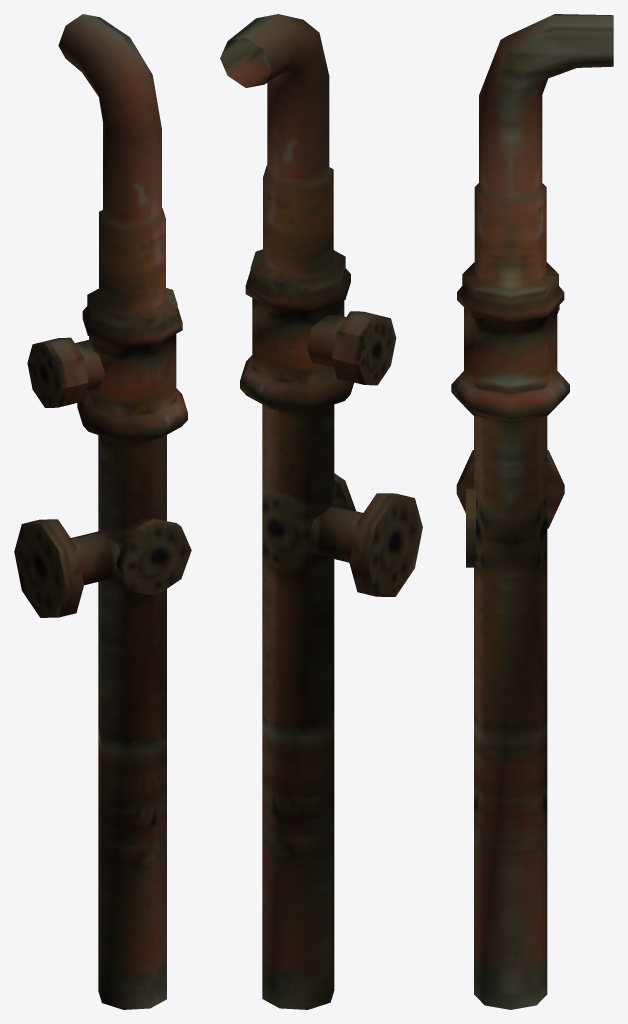
The model's file is sewer_valve_pipe.FBX.
The picture shows the model from 3 angles, left to right: view 1: azimuth 30°, elevation 25°; view 2: azimuth 150°, elevation 25°; view 3: azimuth 270°, elevation 25°; orthographic projection. The views are drawn at different scales.
Visible parts, largest first — view 1: sewer_valve_pipe; view 2: sewer_valve_pipe; view 3: sewer_valve_pipe.
Boxes of the visible parts, left/top/right/bottom form: sewer_valve_pipe: left=14, top=14, right=191, bottom=1009; sewer_valve_pipe: left=220, top=14, right=422, bottom=1009; sewer_valve_pipe: left=451, top=14, right=613, bottom=1009.
Bounding box in the file's own units: 23.26 × 148 × 22.24.
